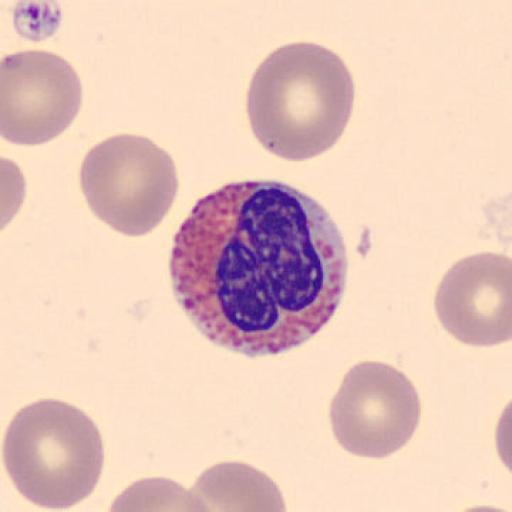Platelet: (8, 0, 66, 45)
RBC: (243, 40, 357, 165), (1, 396, 106, 511), (78, 131, 182, 240), (327, 359, 423, 460), (2, 46, 85, 147), (434, 248, 512, 348), (188, 458, 288, 512), (104, 474, 218, 512), (0, 153, 28, 235), (492, 392, 512, 488), (493, 400, 512, 479), (445, 502, 512, 512)
WBC: (166, 176, 349, 359)
